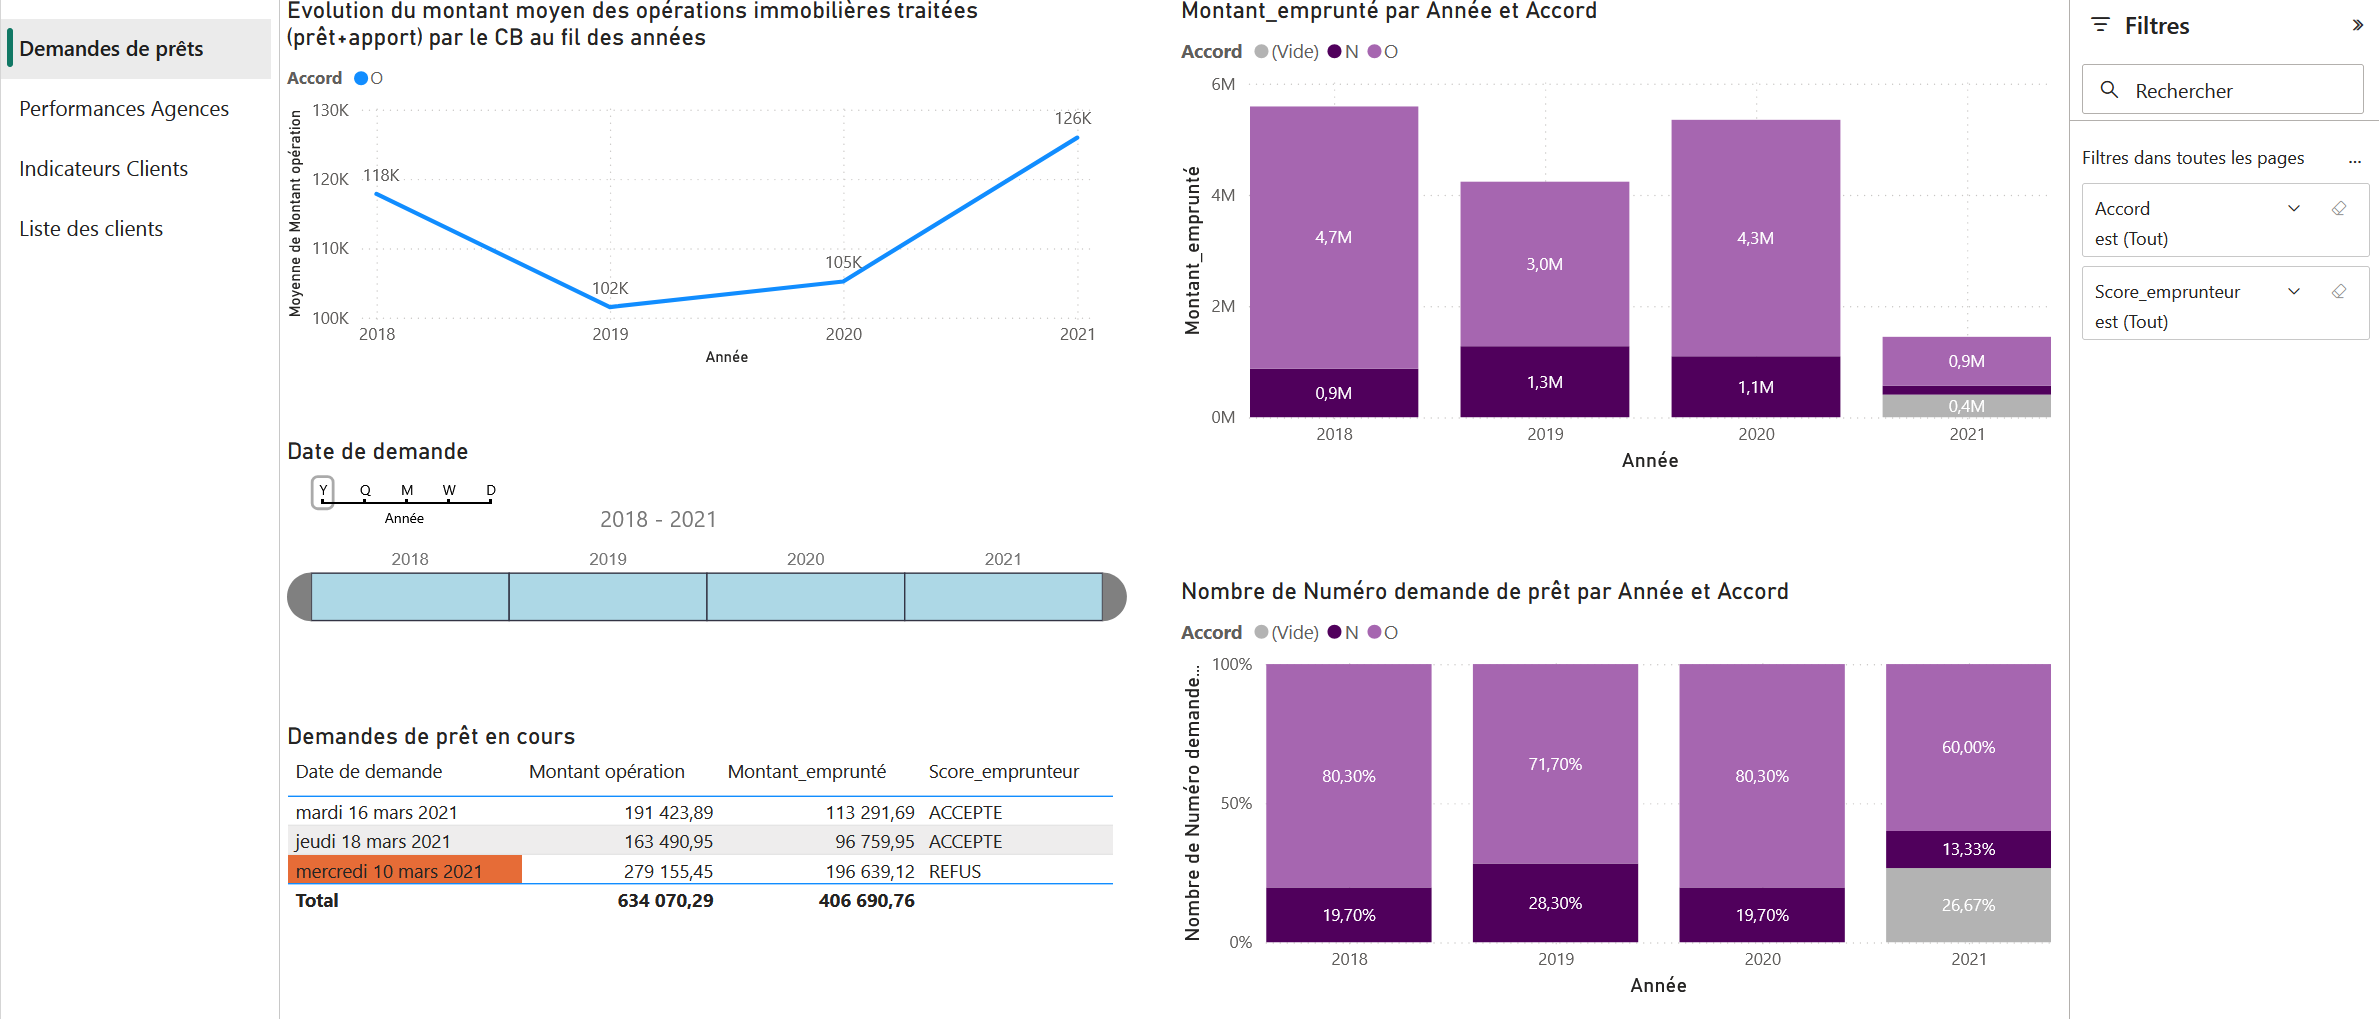

What the dashboard file says about the page in this screenshot:
{"tool":"powerbi","page":{"name":"Demandes de prêts","canvas":[1280,720],"ordinal":0},"visuals":[{"type":"columnChart","fields":{"Category":["Demandes de pret.Date de demande.Variation.Hiérarchie de dates.Année","Demandes de pret.Date de demande.Variation.Hiérarchie de dates.Trimestre","Demandes de pret.Date de demande.Variation.Hiérarchie de dates.Mois","Demandes de pret.Date de demande.Variation.Hiérarchie de dates.Jour"],"Series":["Demandes de pret.Accord"],"Y":["Demandes de pret.Montant emprunté"]},"box":[639.6,0,632.6,344.3],"z":0},{"type":"lineChart","title":"Evolution du montant moyen des opérations immobilières traitées (prêt+apport) par le CB au fil des années","fields":{"Category":["Demandes de pret.Date de demande.Variation.Hiérarchie de dates.Année","Demandes de pret.Date de demande.Variation.Hiérarchie de dates.Trimestre","Demandes de pret.Date de demande.Variation.Hiérarchie de dates.Mois","Demandes de pret.Date de demande.Variation.Hiérarchie de dates.Jour"],"Y":["Avg(Demandes de pret.Montant opération)"],"Series":["Demandes de pret.Accord"]},"box":[0,0,588.3,268.5],"z":1000},{"type":"hundredPercentStackedColumnChart","fields":{"Category":["Demandes de pret.Date de demande.Variation.Hiérarchie de dates.Année","Demandes de pret.Date de demande.Variation.Hiérarchie de dates.Trimestre","Demandes de pret.Date de demande.Variation.Hiérarchie de dates.Mois","Demandes de pret.Date de demande.Variation.Hiérarchie de dates.Jour"],"Y":["CountNonNull(Demandes de pret.Numéro demande de prêt)"],"Series":["Demandes de pret.Accord"]},"box":[639.6,415.5,632.6,304.6],"z":2000},{"type":"tableEx","title":"Demandes de prêt en cours","fields":{"Values":["Demandes de pret.Date de demande","Sum(Demandes de pret.Montant opération)","Demandes de pret.Montant emprunté","Demandes de pret.Score_emprunteur"]},"box":[0,519.4,612.8,200.8],"z":3000},{"type":"Timeline1447991079100","fields":{"Time":["Demandes de pret.Date de demande"]},"box":[0,315.1,612.8,162.2],"z":4000}]}

Visuals, with their boxes on the page's 1280x720 design canvas (x1, y1, x2, y2). These are canvas units, not pixel positions in the 2379x1019 screenshot, which may show the page scaled, cropped or inside an application window:
columnChart - Demandes de pret.Date de demande.Variation.Hiérarchie de dates.Année x Demandes de pret.Date de demande.Variation.Hiérarchie de dates.Trimestre: l=640, t=0, r=1272, b=344
"Evolution du montant moyen des opérations immobilières traitées (prêt+apport) par le CB au fil des années" lineChart: l=0, t=0, r=588, b=268
hundredPercentStackedColumnChart - Demandes de pret.Date de demande.Variation.Hiérarchie de dates.Année x Demandes de pret.Date de demande.Variation.Hiérarchie de dates.Trimestre: l=640, t=416, r=1272, b=720
"Demandes de prêt en cours" tableEx: l=0, t=519, r=613, b=720
Timeline1447991079100 - Demandes de pret.Date de demande: l=0, t=315, r=613, b=477
